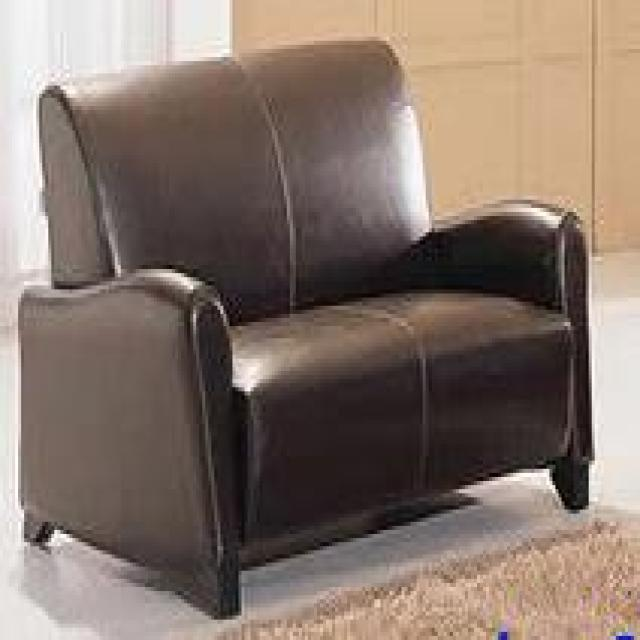sofa: (20, 36, 596, 619)
